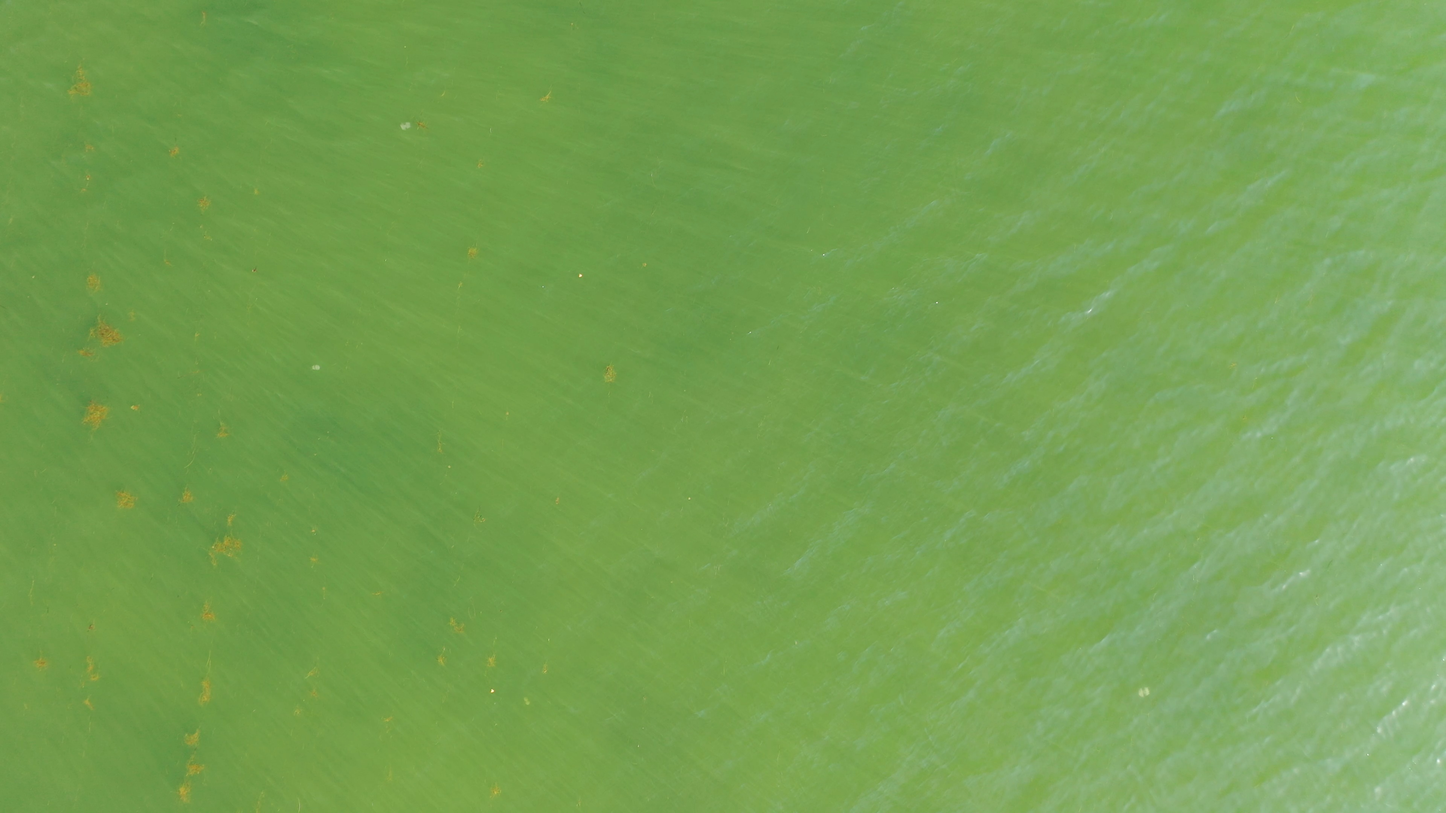meduse: (399, 121, 411, 131), (1138, 688, 1151, 697), (311, 364, 320, 371), (524, 698, 531, 705)
